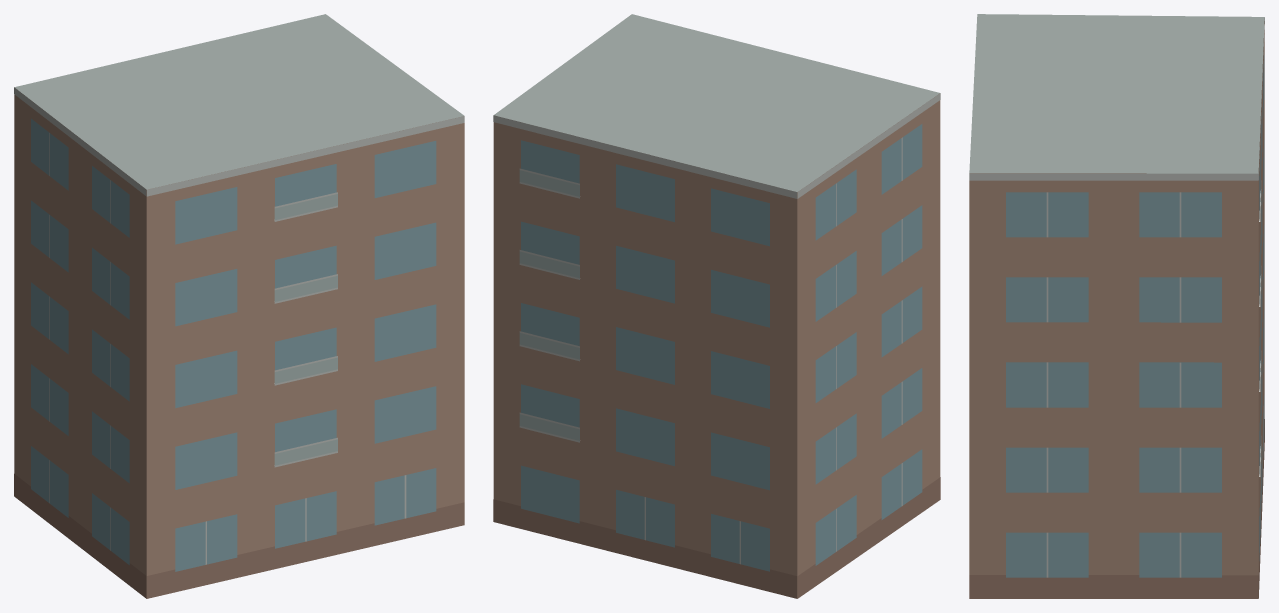
The model's file is survey-upis-32858307.glb.
3 views of the same model, side by side, from view 1: azimuth 30°, elevation 25°; view 2: azimuth 150°, elevation 25°; view 3: azimuth 270°, elevation 25° (orthographic). The views are drawn at different scales.
Visible parts, largest first — view 1: survey-upis-32858307.tmp; view 2: survey-upis-32858307.tmp; view 3: survey-upis-32858307.tmp.
Boxes of the visible parts, x1,y1,x2,y2 form: survey-upis-32858307.tmp: (14, 14, 464, 598); survey-upis-32858307.tmp: (493, 14, 940, 598); survey-upis-32858307.tmp: (969, 14, 1264, 598).
Size of the model in its own units: 11.59 by 14.4 by 9.07.
